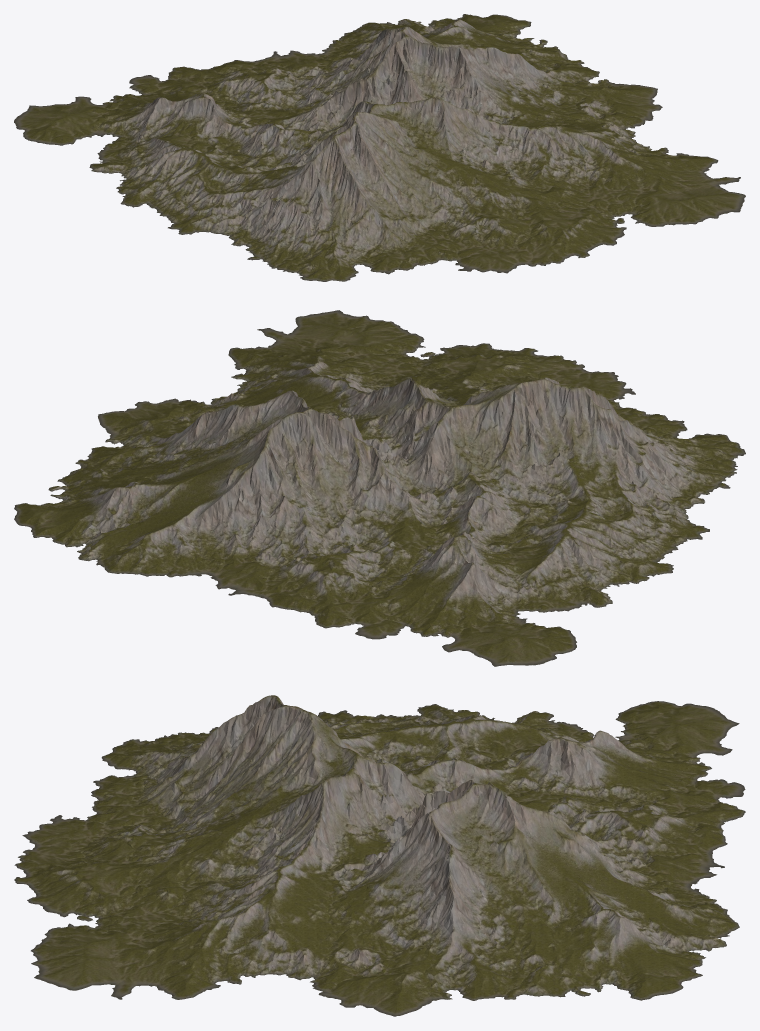
The model's file is island.glb.
The picture shows the model from 3 angles, top to bottom: view 1: azimuth 30°, elevation 25°; view 2: azimuth 150°, elevation 25°; view 3: azimuth 270°, elevation 25°; orthographic projection. The views are drawn at different scales.
Parts seen in each view (by area): view 1: Dry Island; view 2: Dry Island; view 3: Dry Island.
Boxes of the visible parts, bbox=[...] form: Dry Island: bbox=[14, 14, 745, 281]; Dry Island: bbox=[14, 310, 745, 666]; Dry Island: bbox=[14, 695, 745, 1016].
Bounding box in the file's own units: 190 × 29.28 × 186.
Materials: 1 (1 with a texture image).
